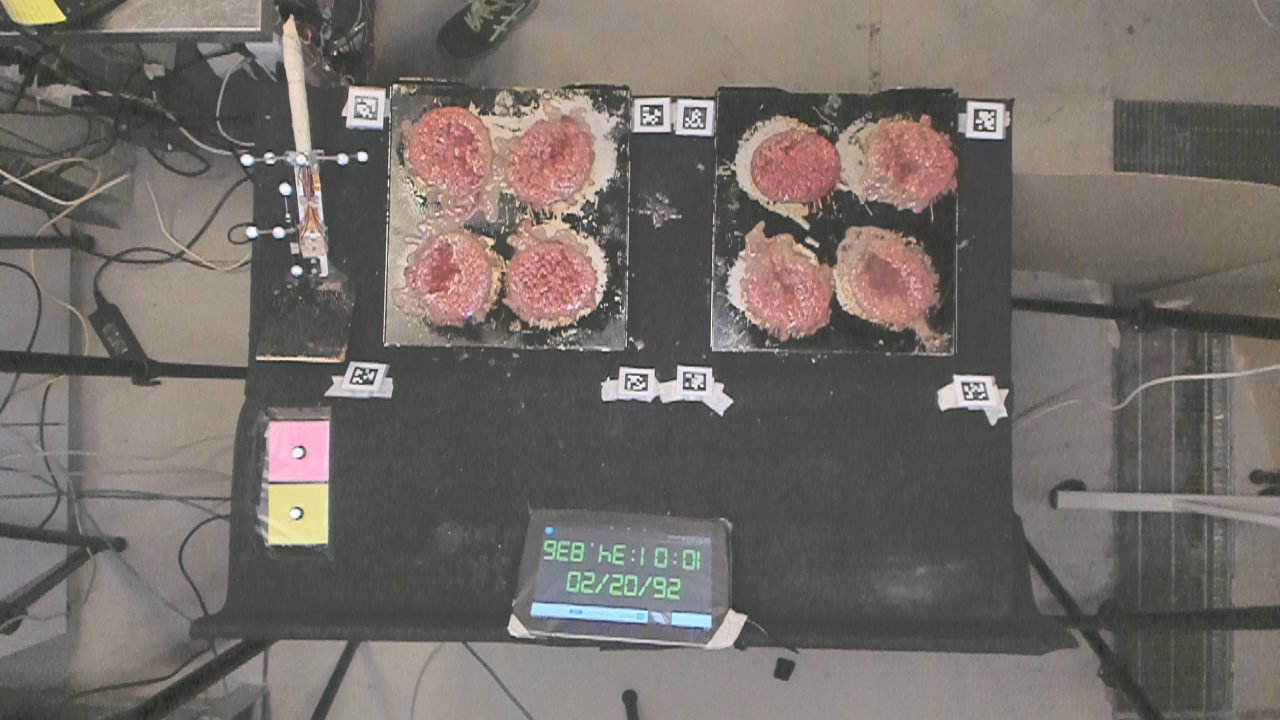hamburger: (848, 226, 932, 336), (511, 110, 596, 202), (408, 106, 494, 195), (862, 119, 954, 202), (754, 119, 839, 206), (744, 250, 829, 334), (511, 238, 594, 322), (416, 234, 490, 324)
marker: (266, 422, 330, 481)
